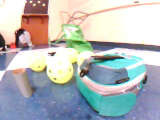Ball: (46, 57, 74, 84), (56, 47, 78, 65), (79, 48, 96, 66), (29, 55, 44, 72)
